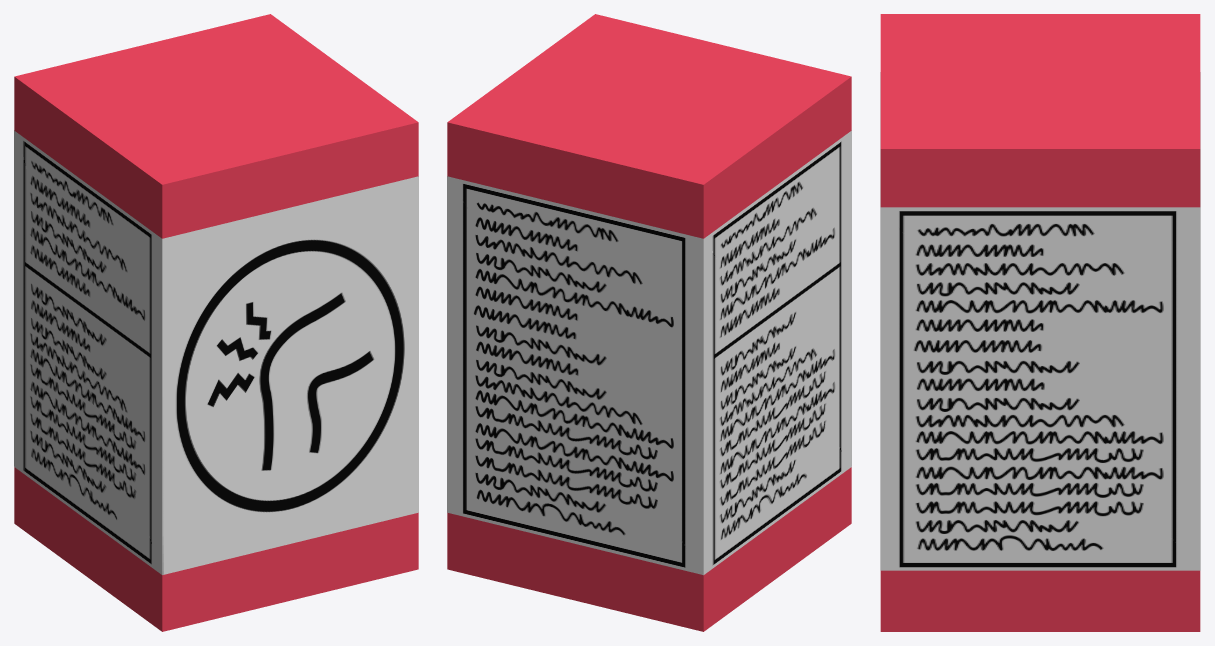
File: jointPainOTC.fbx
3 views of the same model, side by side, from view 1: azimuth 30°, elevation 25°; view 2: azimuth 150°, elevation 25°; view 3: azimuth 270°, elevation 25° (orthographic). The views are drawn at different scales.
Visible parts, largest first — view 1: jointPainLabel, painReliefBox; view 2: jointPainLabel, painReliefBox; view 3: jointPainLabel, painReliefBox.
Part boxes in pixels (<box>): jointPainLabel: <box>14,130,418,574</box>; painReliefBox: <box>14,14,418,631</box>; jointPainLabel: <box>447,130,851,575</box>; painReliefBox: <box>447,14,851,631</box>; jointPainLabel: <box>880,72,1200,570</box>; painReliefBox: <box>880,14,1200,631</box>.
Size of the model in its own units: 12.01 by 20 by 12.01.
